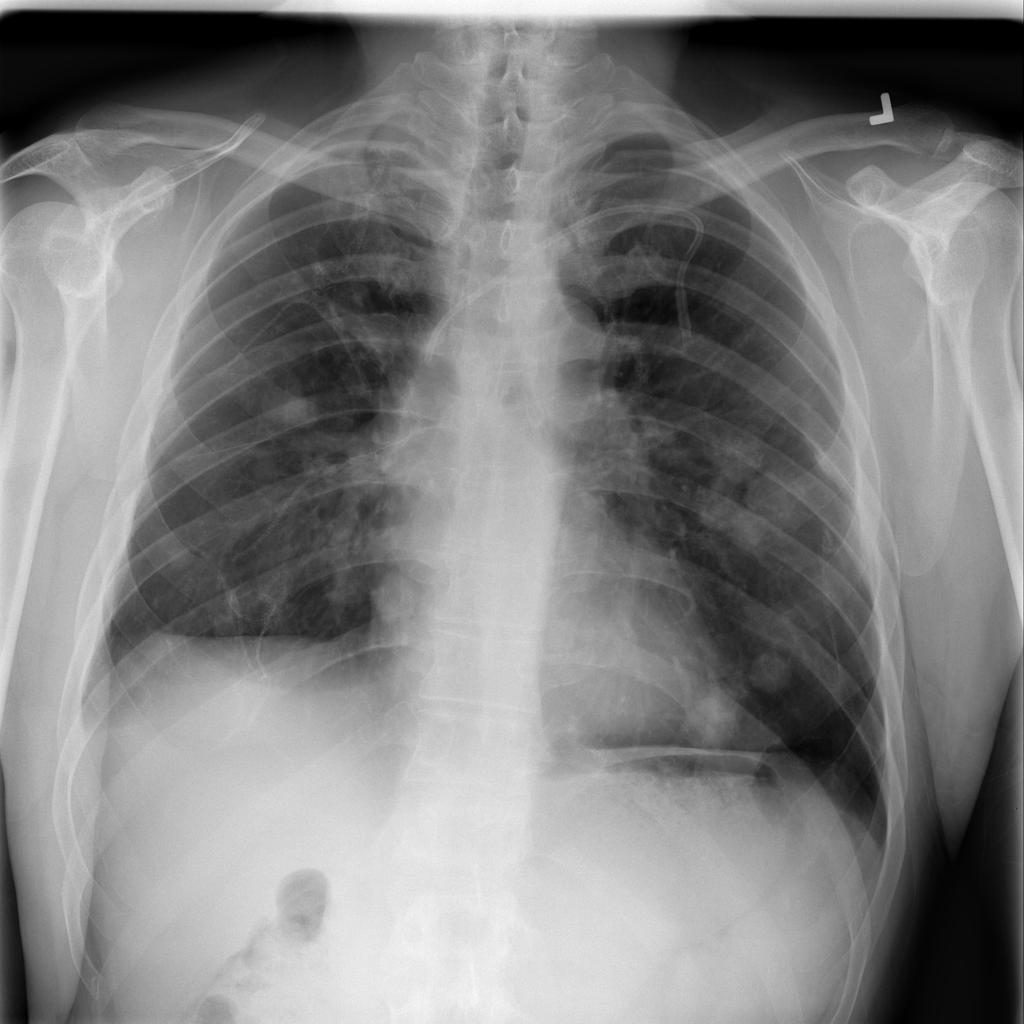nodule: (701, 451, 821, 568), (675, 675, 752, 750), (253, 369, 330, 440), (709, 409, 786, 479), (363, 563, 431, 637), (737, 637, 804, 711), (236, 441, 291, 490), (154, 529, 207, 576)
